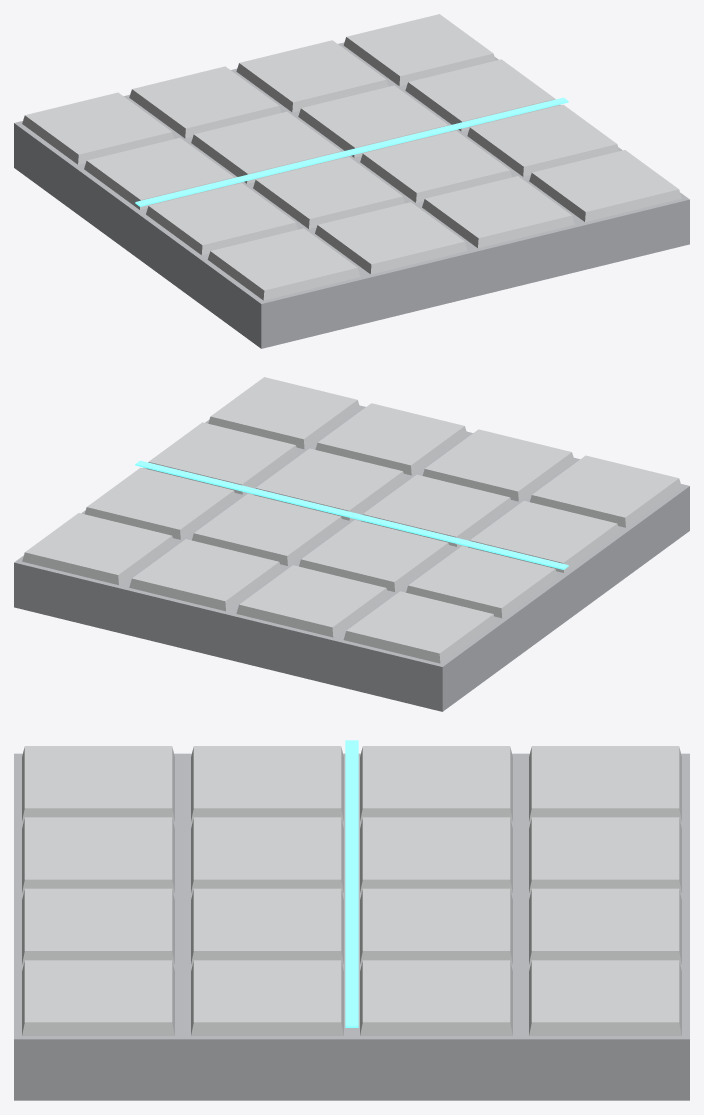
The model's file is SM_Floor_MedBay.glb.
The picture shows the model from 3 angles, top to bottom: view 1: azimuth 30°, elevation 25°; view 2: azimuth 150°, elevation 25°; view 3: azimuth 270°, elevation 25°; orthographic projection. The views are drawn at different scales.
Visible parts, largest first — view 1: SM_Floor_MedBay; view 2: SM_Floor_MedBay; view 3: SM_Floor_MedBay.
Boxes of the visible parts, left/top/right/bottom form: SM_Floor_MedBay: left=14, top=14, right=689, bottom=348; SM_Floor_MedBay: left=14, top=377, right=689, bottom=711; SM_Floor_MedBay: left=14, top=740, right=689, bottom=1100.
Size of the model in its own units: 2 by 0.243 by 2.
